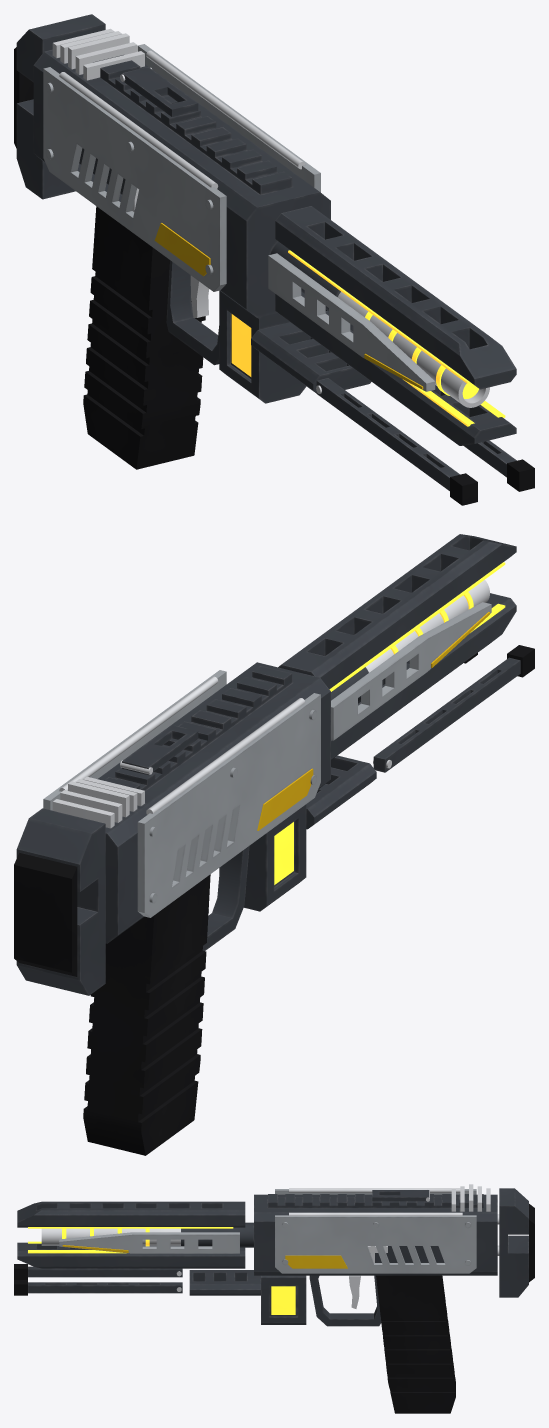
The model's file is TALOS_parts.glb.
3 views of the same model, one above another, from view 1: azimuth 30°, elevation 25°; view 2: azimuth 150°, elevation 25°; view 3: azimuth 270°, elevation 25° (orthographic). The views are drawn at different scales.
Parts seen in each view (by area): view 1: grip, wing_R, prong_u, receiver, claw_R, prong_d, top_rail, stock_butt, chassis, cell, leg_R, rear_fins (+16 smaller); view 2: grip, wing_R, prong_u, receiver, stock_butt, stock_pad, claw_R, top_rail, prong_d, leg_R, cell, rear_fins (+10 smaller); view 3: wing_L, grip, prong_u, receiver, prong_d, stock_butt, claw_L, top_rail, leg_L, chassis, cell, leg_R (+14 smaller).
Boxes of the visible parts, x1,y1,x2,y2 form: grip: (83, 206, 205, 469); wing_R: (43, 67, 226, 291); prong_u: (275, 206, 516, 389); receiver: (33, 49, 330, 317); claw_R: (268, 253, 435, 391); prong_d: (275, 291, 516, 445); top_rail: (93, 55, 292, 194); stock_butt: (16, 14, 105, 199); chassis: (251, 322, 371, 393); cell: (219, 290, 306, 403); leg_R: (316, 378, 459, 490); rear_fins: (52, 28, 144, 80); grip: (83, 874, 210, 1155); wing_R: (137, 693, 320, 917); prong_u: (278, 534, 516, 689); receiver: (97, 662, 330, 943); stock_butt: (16, 808, 105, 995); stock_pad: (14, 852, 77, 976); claw_R: (331, 602, 491, 740); top_rail: (104, 666, 292, 790); prong_d: (331, 593, 516, 759); leg_R: (373, 657, 520, 772); cell: (219, 804, 306, 911); rear_fins: (52, 776, 144, 828); wing_L: (275, 1215, 476, 1273); grip: (376, 1275, 455, 1413); prong_u: (17, 1201, 245, 1227); receiver: (254, 1194, 497, 1275); prong_d: (17, 1242, 245, 1268); stock_butt: (499, 1188, 528, 1297); claw_L: (59, 1232, 239, 1253); top_rail: (268, 1194, 483, 1207); leg_L: (28, 1282, 182, 1293); chassis: (189, 1270, 260, 1295); cell: (261, 1275, 306, 1324); leg_R: (28, 1266, 182, 1277).
Size of the model in its own units: 0.0404 by 0.135 by 0.2995.
1 material, 1 textured.
